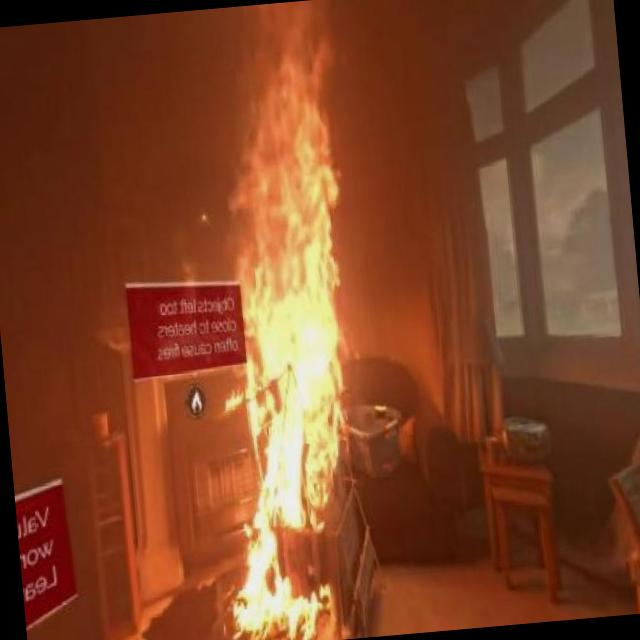fire: (174, 0, 407, 537)
